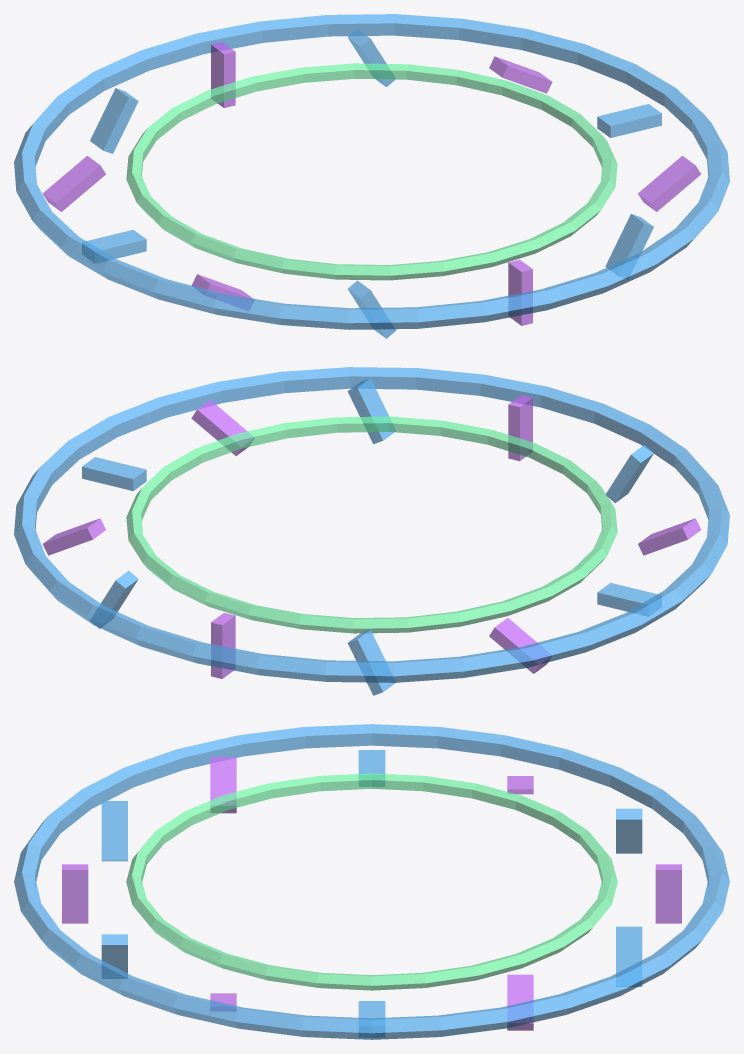
Rendered from vfx_evolution_data_ring.glb.
3 views of the same model, one above another, from view 1: azimuth 30°, elevation 25°; view 2: azimuth 150°, elevation 25°; view 3: azimuth 270°, elevation 25° (orthographic).
Visible parts, largest first — view 1: outer, inner, block_8, block_7, block_1, block_2, block_9, block_3, block_0, block_6, block_10, block_4 (+2 smaller); view 2: outer, inner, block_2, block_1, block_8, block_7, block_3, block_9, block_0, block_6, block_4, block_10 (+2 smaller); view 3: outer, inner, block_4, block_10, block_3, block_9, block_5, block_11, block_8, block_2, block_6, block_0.
Part boxes in pixels (left/top/right/bottom): outer: left=14, top=14, right=729, bottom=329; inner: left=126, top=63, right=617, bottom=280; block_8: left=90, top=88, right=138, bottom=153; block_7: left=42, top=156, right=105, bottom=211; block_1: left=638, top=156, right=701, bottom=211; block_2: left=605, top=214, right=653, bottom=278; block_9: left=211, top=42, right=235, bottom=107; block_3: left=508, top=259, right=532, bottom=325; block_0: left=597, top=104, right=661, bottom=137; block_6: left=82, top=229, right=146, bottom=263; block_10: left=347, top=29, right=395, bottom=87; block_4: left=348, top=280, right=396, bottom=338; outer: left=14, top=367, right=729, bottom=682; inner: left=126, top=416, right=617, bottom=633; block_2: left=347, top=378, right=395, bottom=444; block_1: left=191, top=400, right=254, bottom=455; block_8: left=348, top=629, right=395, bottom=695; block_7: left=489, top=618, right=551, bottom=673; block_3: left=508, top=395, right=532, bottom=461; block_9: left=211, top=612, right=235, bottom=678; block_0: left=82, top=457, right=146, bottom=491; block_6: left=597, top=582, right=661, bottom=616; block_4: left=606, top=445, right=653, bottom=502; block_10: left=90, top=571, right=138, bottom=628; outer: left=14, top=724, right=729, bottom=1039; inner: left=126, top=773, right=617, bottom=990; block_4: left=101, top=801, right=127, bottom=861; block_10: left=616, top=926, right=642, bottom=986; block_3: left=62, top=864, right=88, bottom=923; block_9: left=655, top=864, right=681, bottom=923; block_5: left=210, top=757, right=236, bottom=813; block_11: left=507, top=974, right=533, bottom=1030; block_8: left=616, top=808, right=642, bottom=853; block_2: left=101, top=934, right=127, bottom=978; block_6: left=358, top=750, right=385, bottom=786; block_0: left=358, top=1001, right=385, bottom=1037.
Bounding box in the file's own units: 2.17 × 0.18 × 2.17.
